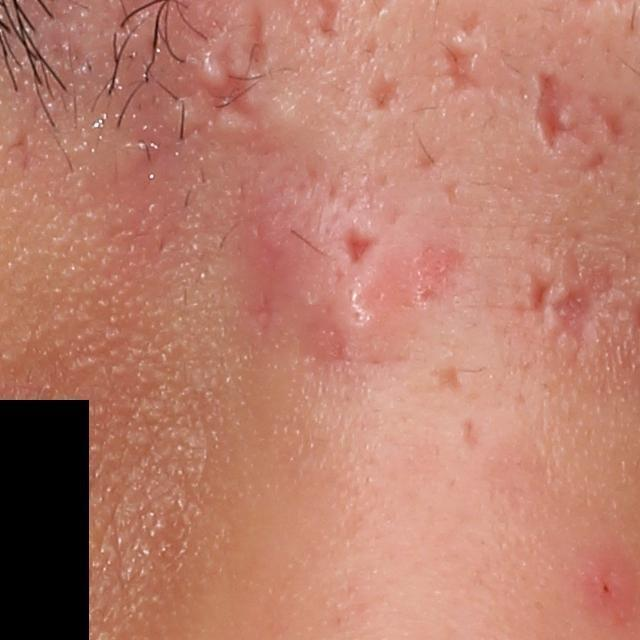atrophic_scar: (175, 46, 266, 123), (554, 253, 617, 353), (532, 68, 577, 166), (363, 70, 413, 120), (441, 42, 484, 96), (426, 355, 466, 395), (7, 128, 32, 177), (346, 226, 378, 262), (249, 7, 265, 78), (455, 413, 482, 455), (461, 6, 485, 36), (415, 146, 442, 171), (533, 276, 551, 309), (443, 181, 460, 211)
hypertrophic_scar: (305, 198, 448, 359), (264, 78, 347, 160), (576, 287, 627, 367), (210, 103, 262, 139), (199, 41, 233, 88), (167, 95, 208, 131), (553, 329, 582, 361), (452, 31, 482, 59), (560, 104, 582, 128)
